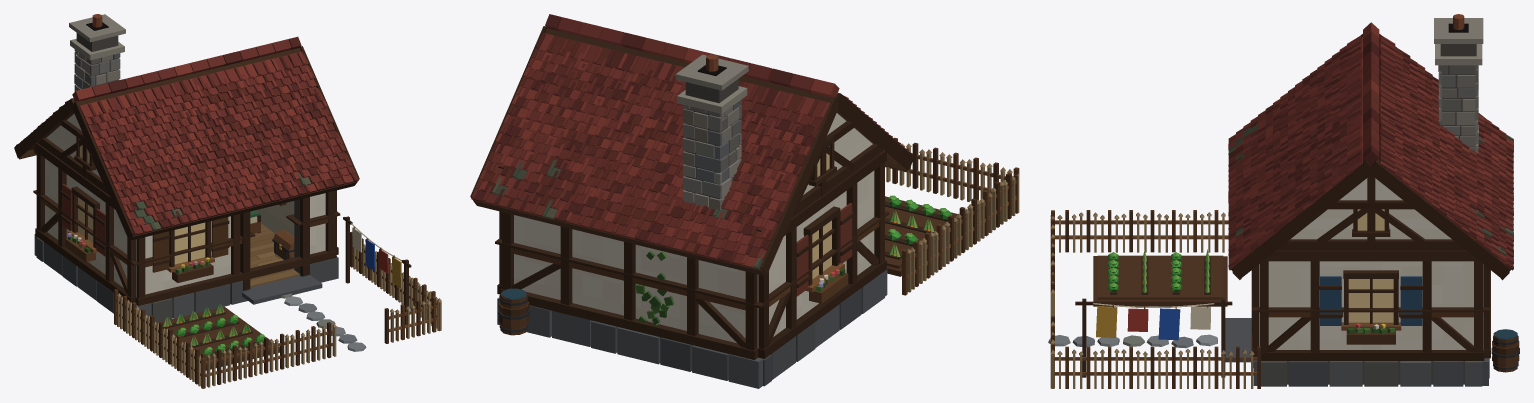
File: cottage-0.glb
3 renders of one model, left to right at view 1: azimuth 30°, elevation 25°; view 2: azimuth 150°, elevation 25°; view 3: azimuth 270°, elevation 25°, orthographic. The views are drawn at different scales.
Parts seen in each view (by area): view 1: cottage-0_shell, cottage-0_interior, cottage-0_glass, cottage-0_cap; view 2: cottage-0_shell, cottage-0_interior, cottage-0_cap, cottage-0_glass; view 3: cottage-0_shell, cottage-0_interior, cottage-0_glass, cottage-0_cap.
Boxes of the visible parts, bbox=[...] form: cottage-0_shell: bbox=[14, 14, 359, 322]; cottage-0_interior: bbox=[114, 210, 441, 388]; cottage-0_glass: bbox=[78, 139, 205, 264]; cottage-0_cap: bbox=[33, 190, 340, 265]; cottage-0_shell: bbox=[470, 14, 913, 388]; cottage-0_interior: bbox=[498, 137, 1019, 335]; cottage-0_cap: bbox=[495, 211, 889, 308]; cottage-0_glass: bbox=[812, 146, 831, 279]; cottage-0_shell: bbox=[1225, 14, 1513, 386]; cottage-0_interior: bbox=[1048, 210, 1519, 388]; cottage-0_glass: bbox=[1348, 209, 1393, 322]; cottage-0_cap: bbox=[1252, 269, 1489, 312].
Bounding box in the file's own units: 7.3 × 6.92 × 10.52.
